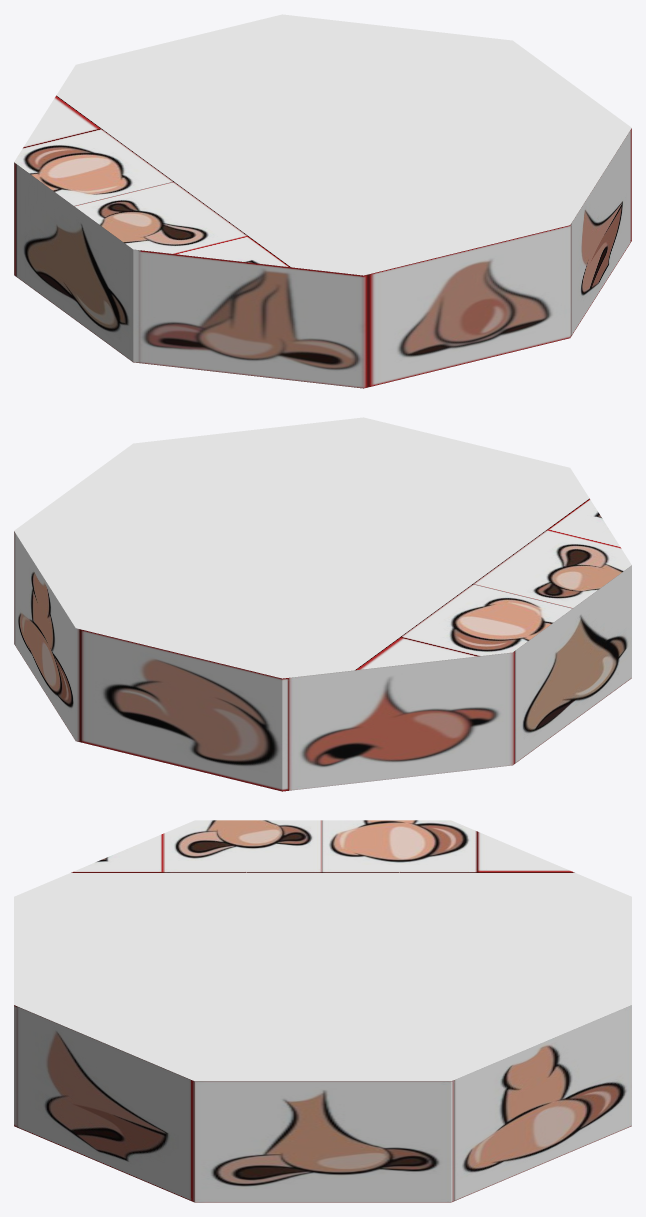
File: noses_rotor.gltf
3 renders of one model, top to bottom at view 1: azimuth 30°, elevation 25°; view 2: azimuth 150°, elevation 25°; view 3: azimuth 270°, elevation 25°, orthographic. The views are drawn at different scales.
Visible parts, largest first — view 1: rotor.008; view 2: rotor.008; view 3: rotor.008.
Boxes of the visible parts, x1,y1,x2,y2 form: rotor.008: (14, 14, 631, 388); rotor.008: (14, 417, 631, 791); rotor.008: (14, 820, 631, 1202).
Size of the model in its own units: 1.85 by 0.4 by 1.85.
1 material, 1 textured.
